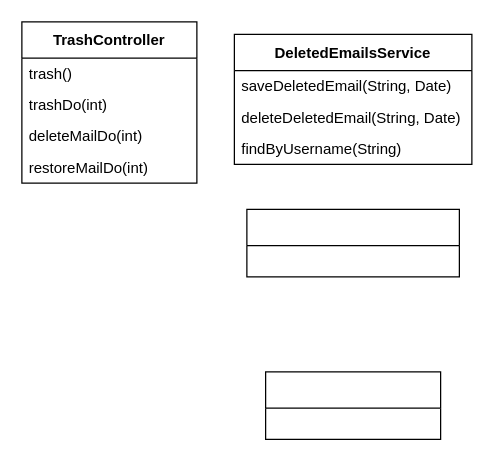
Image size: 494x461. Some labels were removed from this diagram. The shapes that lost their labels are listed below. From the top down, each one's centre as x and y in pixels, then its label:
(x=352, y=242): DeletedEmailsRepository
(x=352, y=405): DeletedEmails
